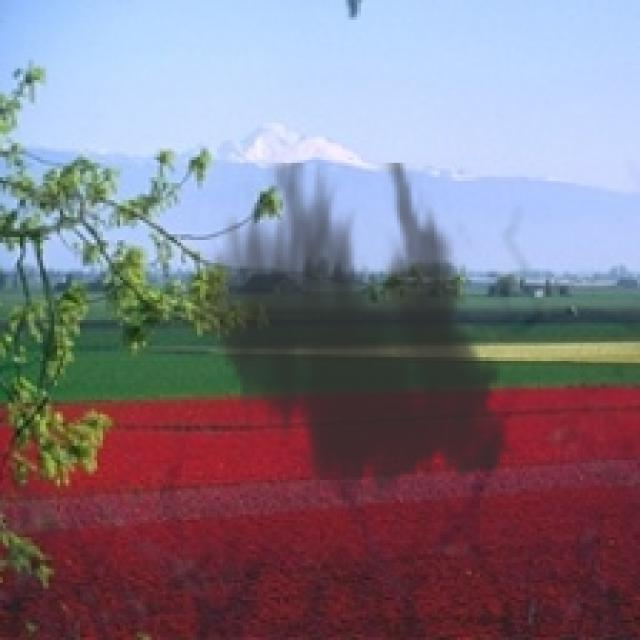smoke: (183, 163, 526, 508)
